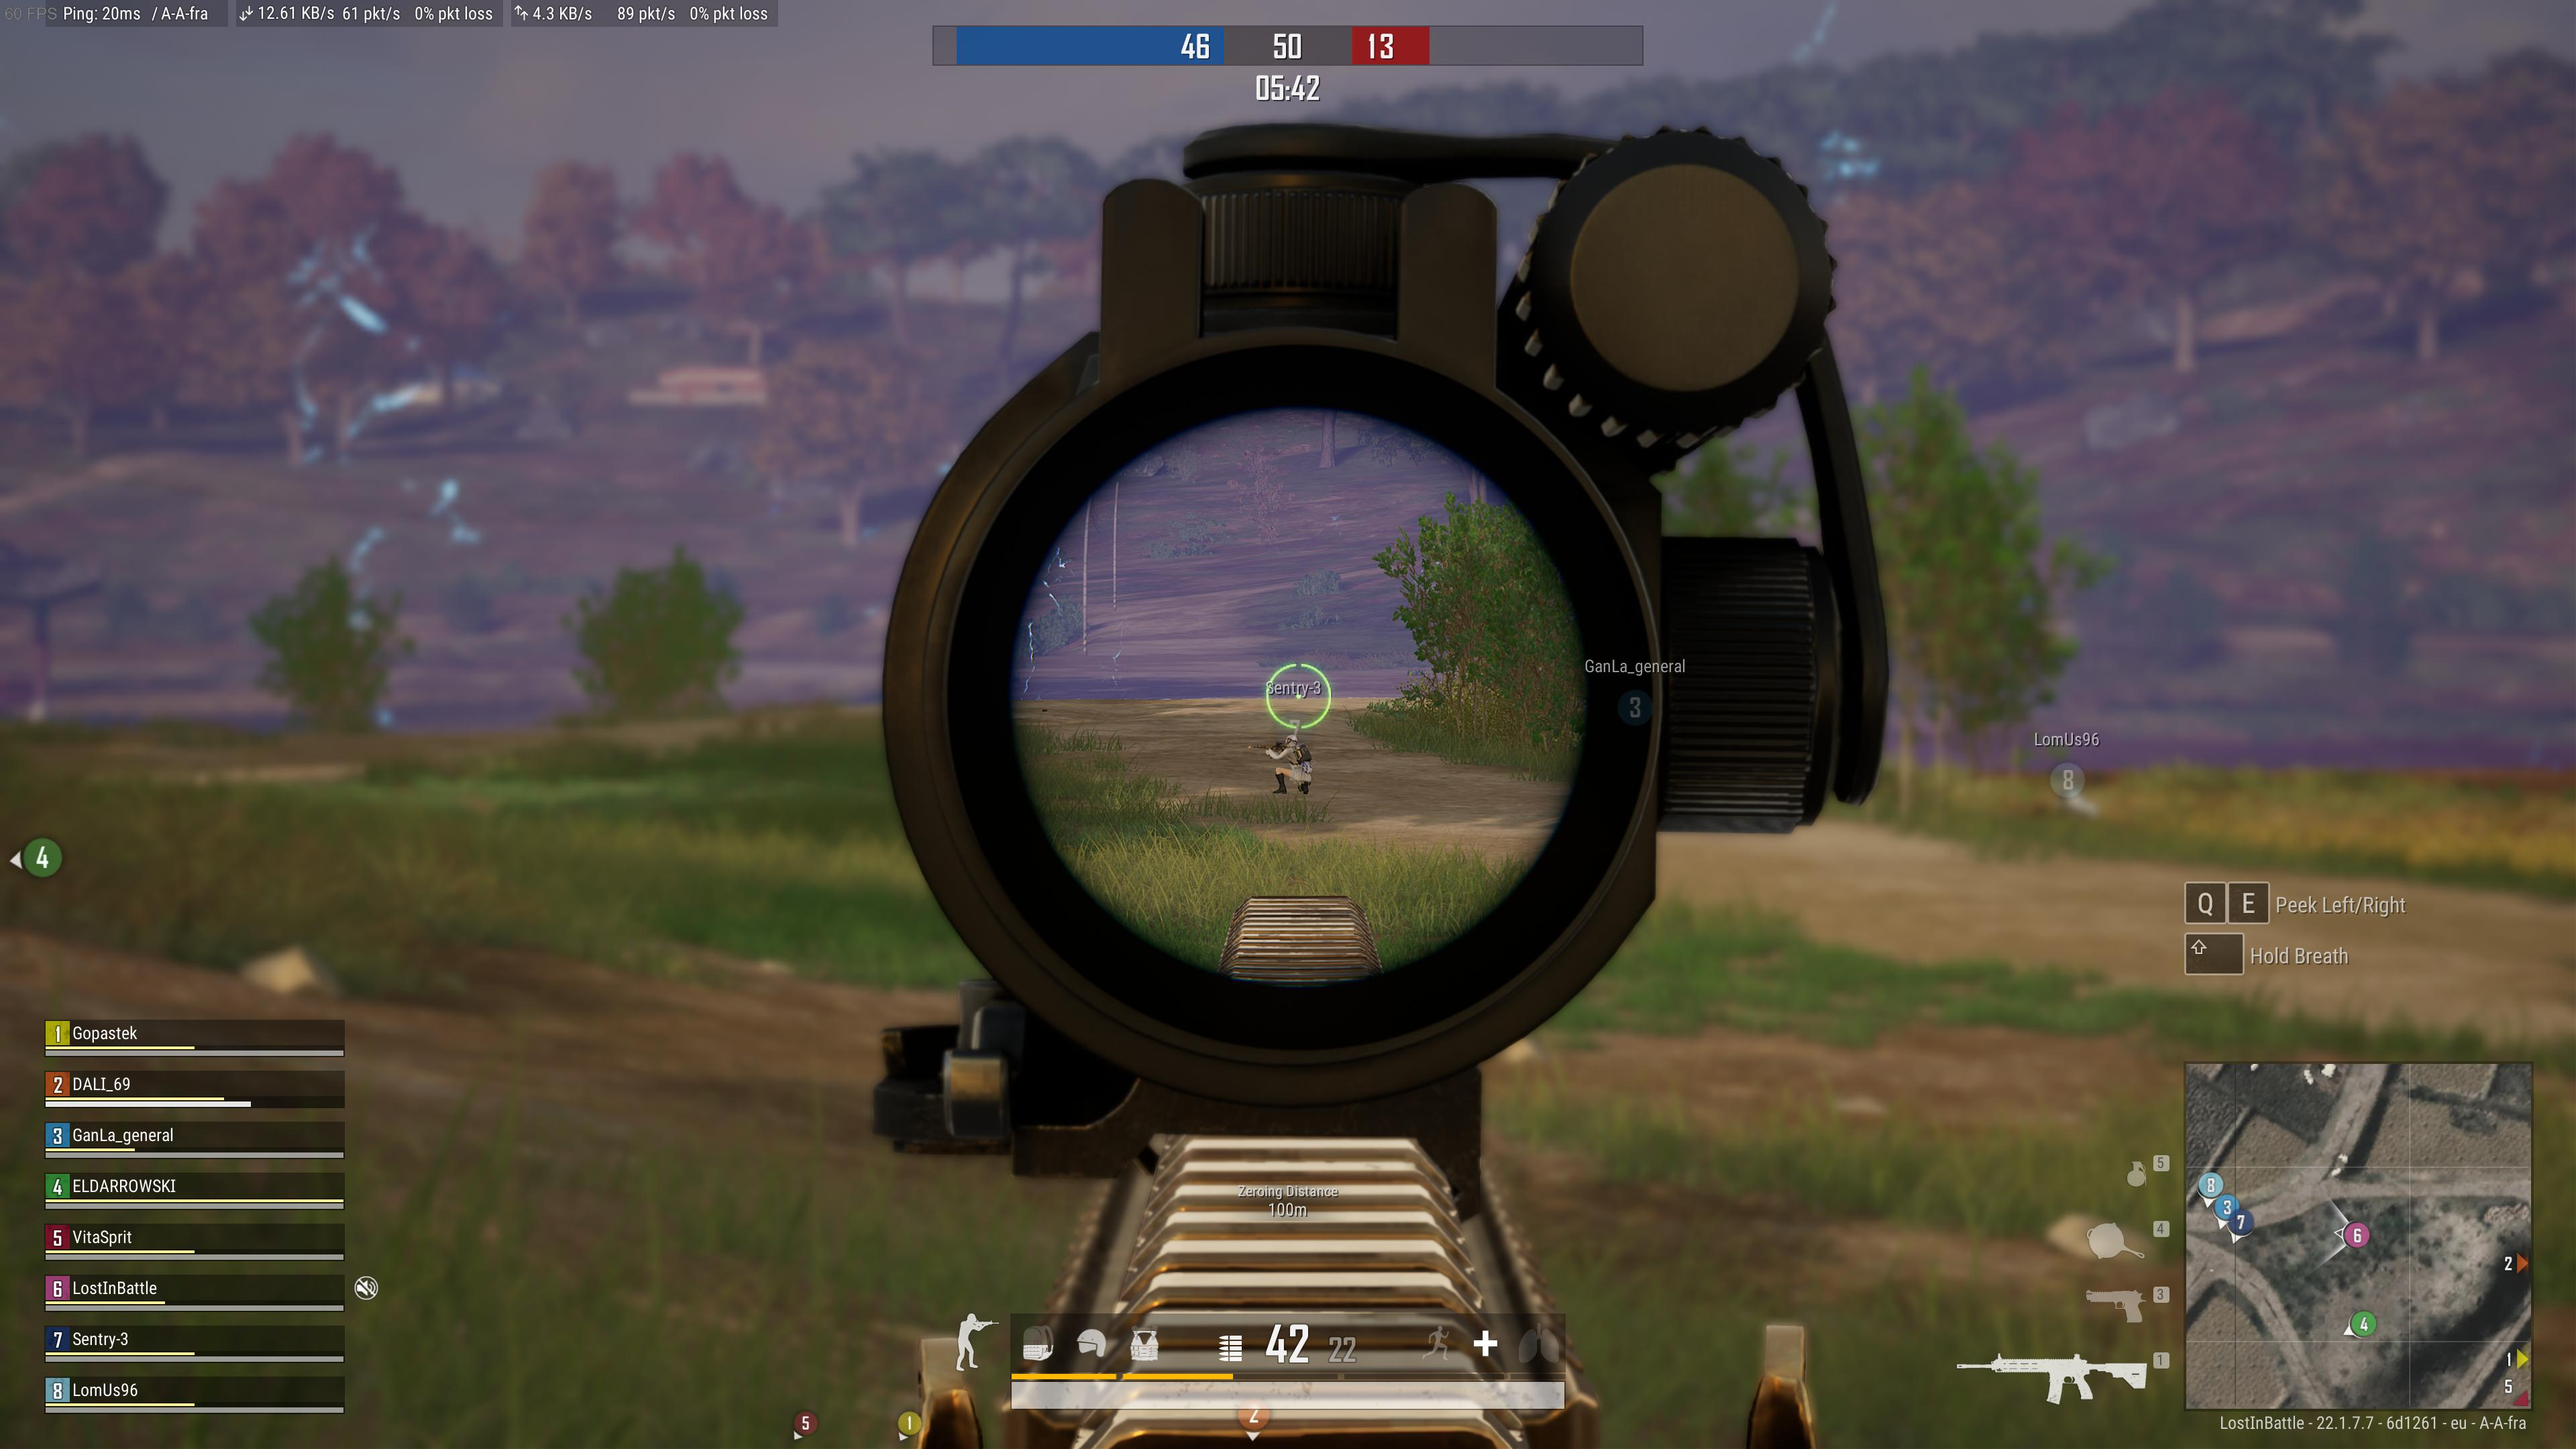friendly: (1265, 715, 1316, 794)
